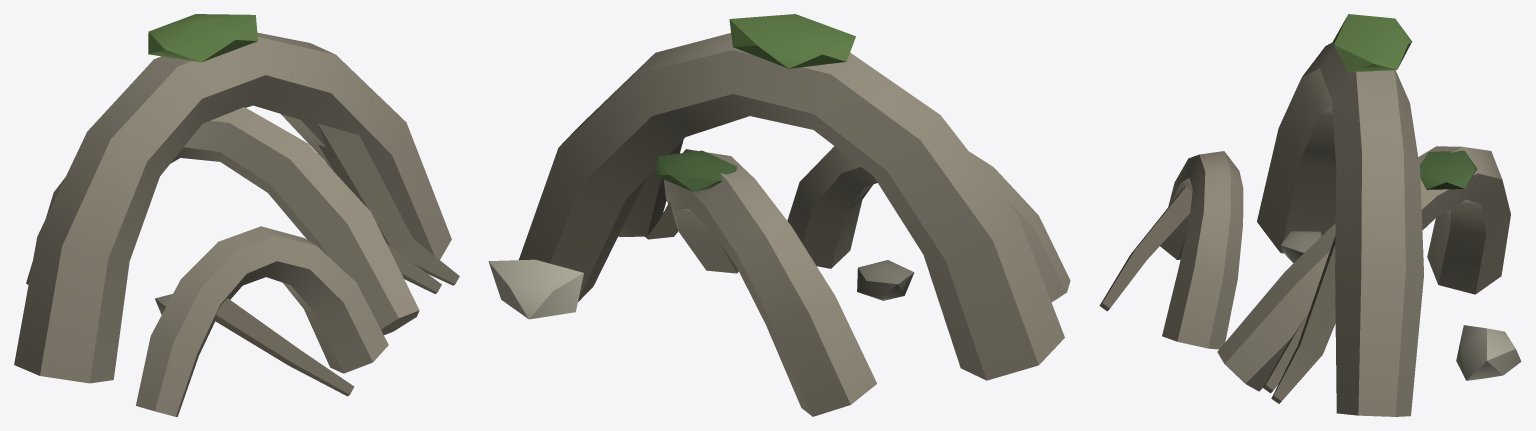
File: garden_roots.fbx
3 views of the same model, side by side, from view 1: azimuth 30°, elevation 25°; view 2: azimuth 150°, elevation 25°; view 3: azimuth 270°, elevation 25° (orthographic). The views are drawn at different scales.
Visible parts, largest first — view 1: garden_roots; view 2: garden_roots; view 3: garden_roots.
Part boxes in pixels (box(x1,y1,x2,y2)): garden_roots: box(14, 14, 459, 416); garden_roots: box(488, 14, 1070, 416); garden_roots: box(1099, 14, 1521, 416).
Size of the model in its own units: 2.27 by 1.45 by 1.87.
